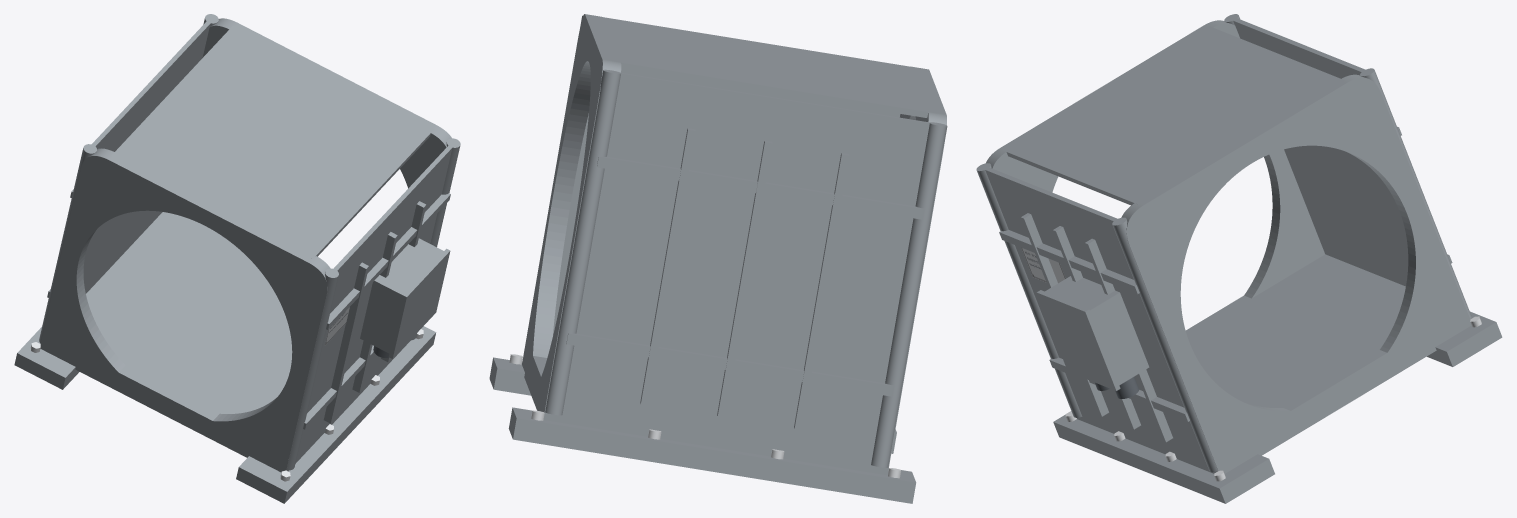
Rendered from sync_frame.glb.
The picture shows the model from 3 angles, left to right: view 1: azimuth 30°, elevation 25°; view 2: azimuth 150°, elevation 25°; view 3: azimuth 270°, elevation 25°; orthographic projection. The views are drawn at different scales.
Size of the model in its own units: 1.81 by 1.73 by 2.04.
5 materials, 1 textured.
